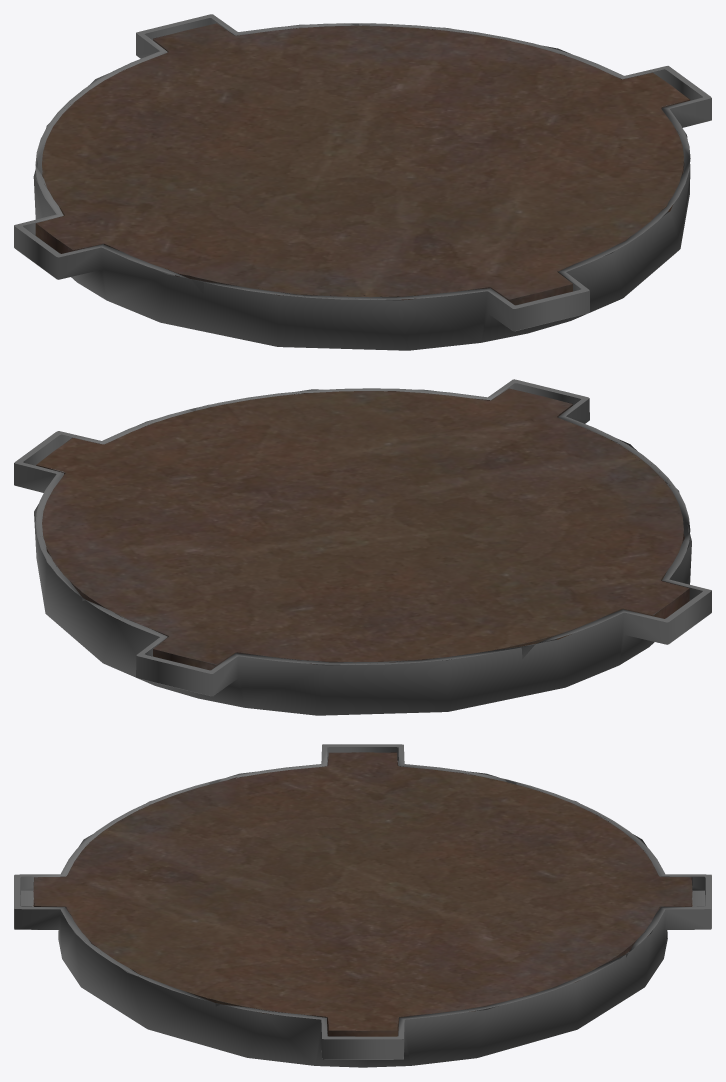
File: luke.fbx
The picture shows the model from 3 angles, top to bottom: view 1: azimuth 30°, elevation 25°; view 2: azimuth 150°, elevation 25°; view 3: azimuth 270°, elevation 25°; orthographic projection. The views are drawn at different scales.
Visible parts, largest first — view 1: Manhole_Low; view 2: Manhole_Low; view 3: Manhole_Low.
Boxes of the visible parts, x1,y1,x2,y2 form: Manhole_Low: [14, 14, 711, 350]; Manhole_Low: [14, 379, 711, 715]; Manhole_Low: [14, 744, 711, 1067].
Size of the model in its own units: 20.19 by 1.51 by 20.19.
2 materials, 1 textured.
